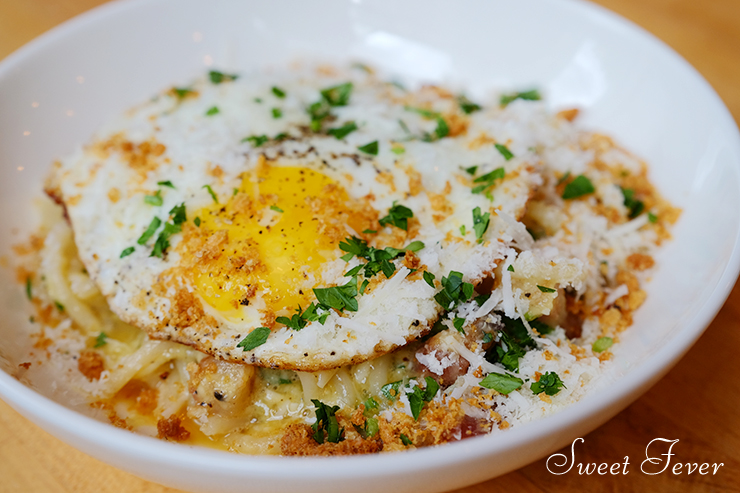fried egg: (114, 104, 453, 372)
